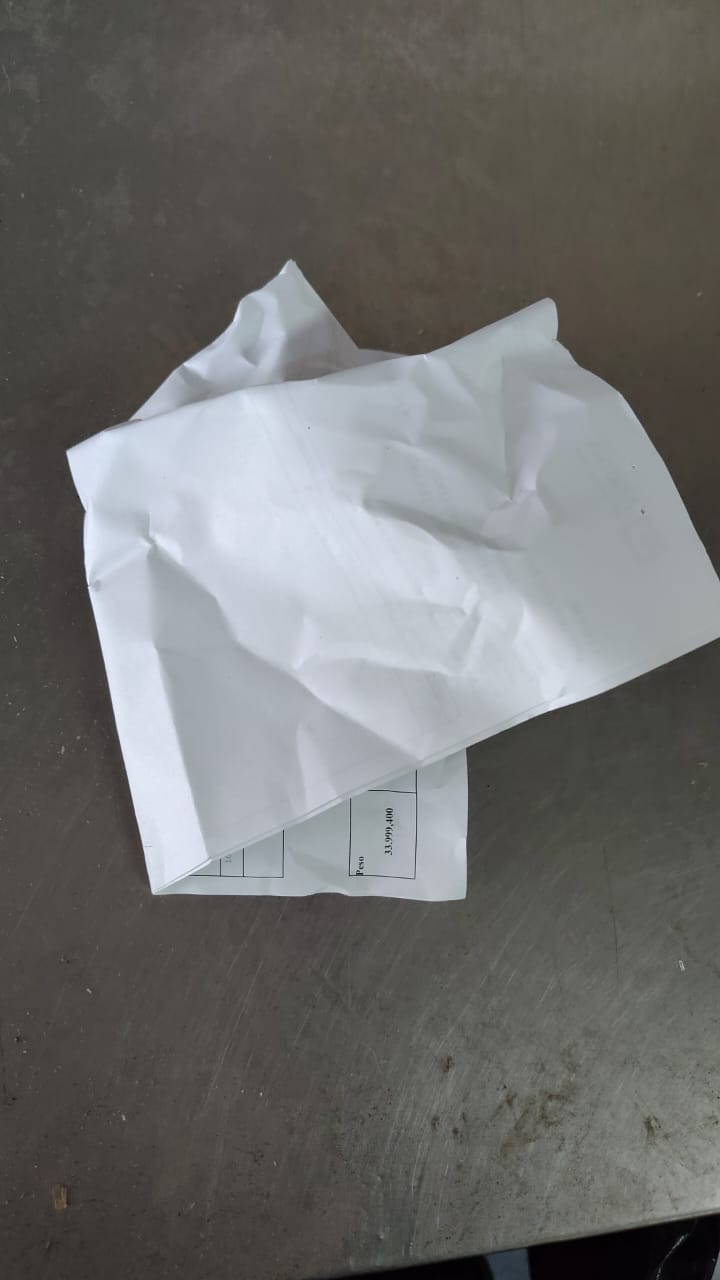Papel: (66, 261, 720, 903)
